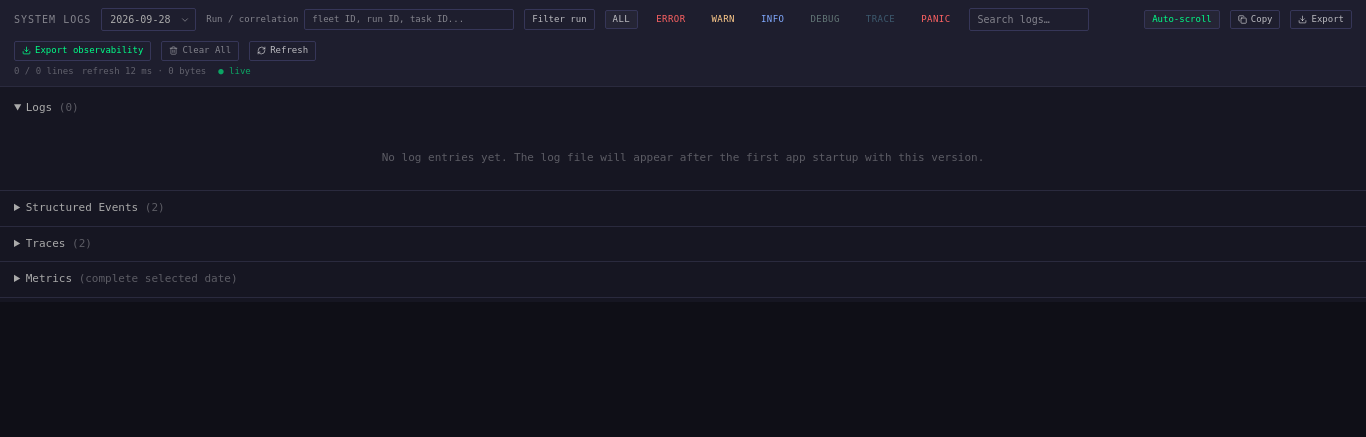
Test: Logs tab › joins graph parent timing and phase events under the shared trace id
What coordinates should you click on to do the following:
click the heading "Traces (2)"
I would click on:
 (59, 243)
Its box is [26, 236, 92, 250].
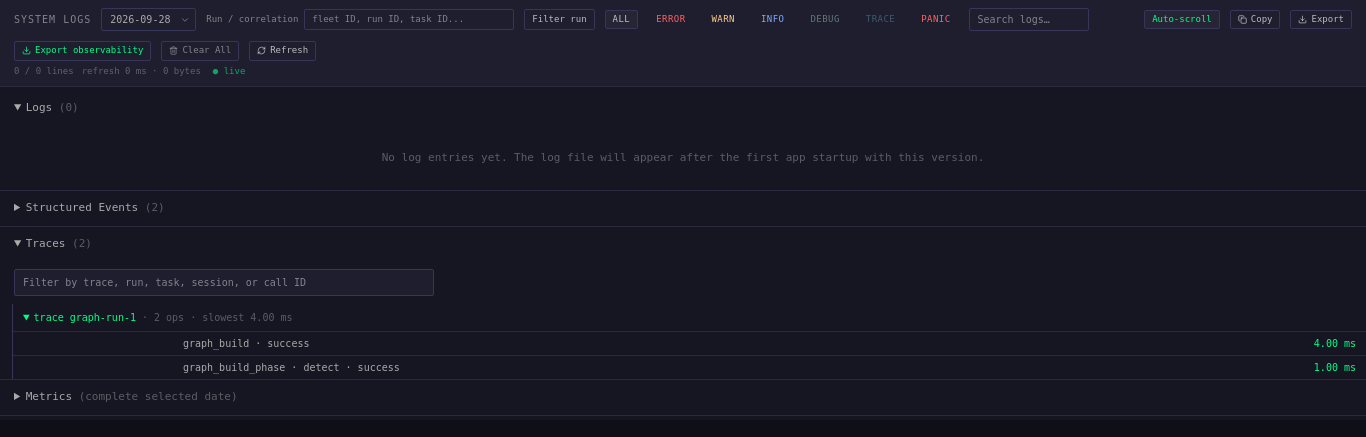
Result: the text "trace graph-run-1" shows "graph_build" at [183, 338, 249, 349]
Result: the text "trace graph-run-1" shows "graph_build_phase" at [183, 362, 340, 373]
Result: the text "trace graph-run-1" shows "detect" at [183, 362, 340, 373]
